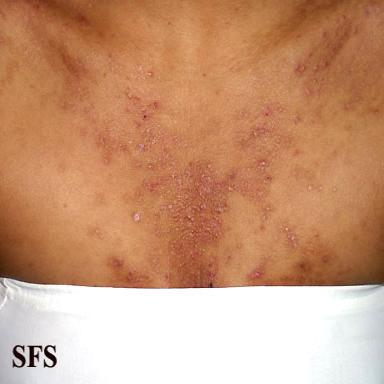Darier_s-Disease: (57, 17, 359, 288), (245, 219, 336, 285)
